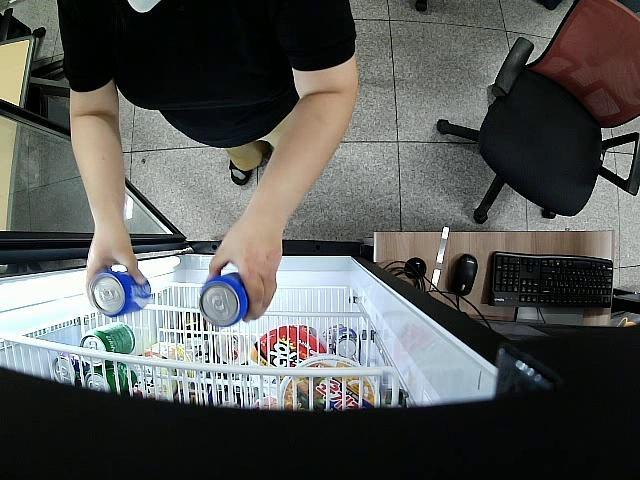13_pocariSweat: (86, 268, 148, 316), (200, 271, 252, 328)
